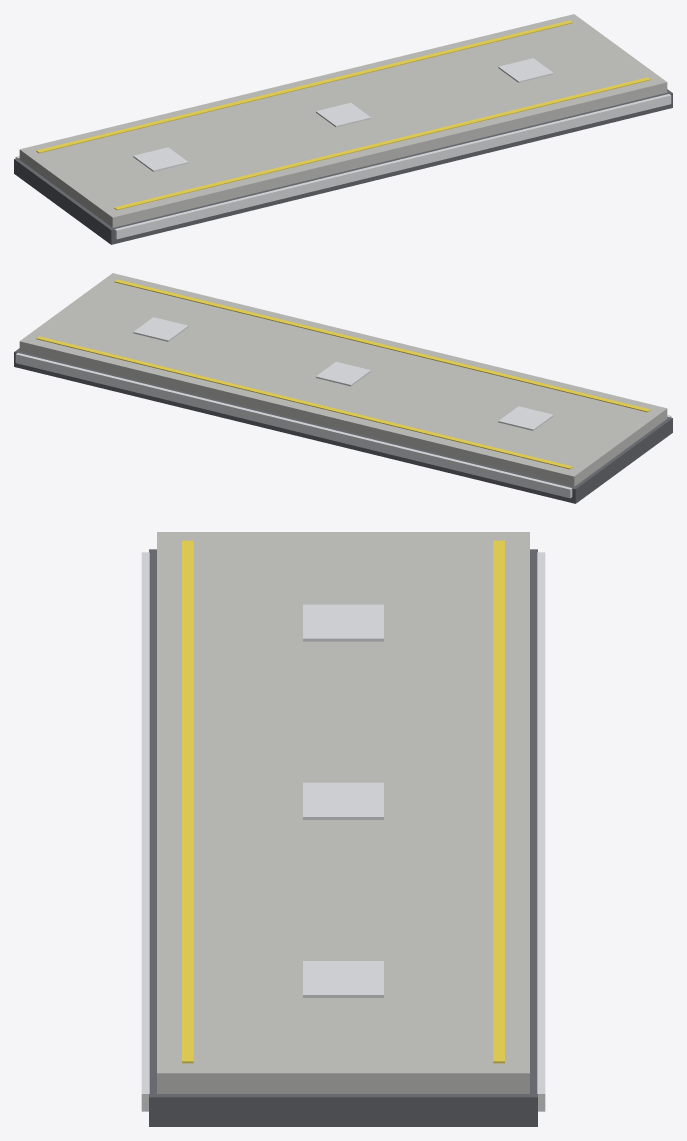
The model's file is PortPontoon.glb.
3 views of the same model, one above another, from view 1: azimuth 30°, elevation 25°; view 2: azimuth 150°, elevation 25°; view 3: azimuth 270°, elevation 25° (orthographic). The views are drawn at different scales.
Visible parts, largest first — view 1: marina-and-yacht-club-pontoon-module-straight; view 2: marina-and-yacht-club-pontoon-module-straight; view 3: marina-and-yacht-club-pontoon-module-straight.
Boxes of the visible parts, box(x1,y1,x2,y2) form: marina-and-yacht-club-pontoon-module-straight: box(14, 14, 672, 244); marina-and-yacht-club-pontoon-module-straight: box(14, 273, 672, 503); marina-and-yacht-club-pontoon-module-straight: box(141, 532, 545, 1126).
Size of the model in its own units: 7.71 by 0.347 by 2.4.
